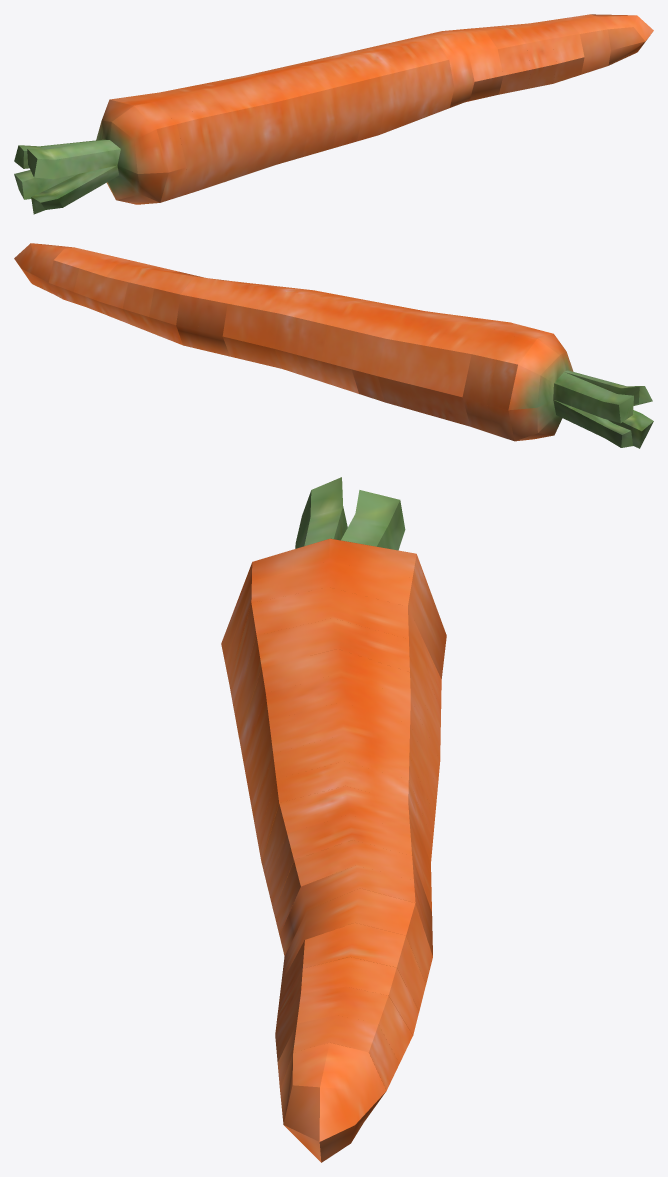
The model's file is CarrotCucumber_carrotsliced.fbx.
3 views of the same model, one above another, from view 1: azimuth 30°, elevation 25°; view 2: azimuth 150°, elevation 25°; view 3: azimuth 270°, elevation 25° (orthographic). The views are drawn at different scales.
Visible parts, largest first — view 1: carrotslice1, carrotslice3, carrotslice7, carrotslice4, carrotslice6, carrotslice2, carrotslice11, carrotslice8, carrotslice5, carrotslice14, carrotslice10, carrotslice15 (+7 smaller); view 2: carrotslice1, carrotslice3, carrotslice4, carrotslice7, carrotslice2, carrotslice6, carrotslice5, carrotslice11, carrotslice8, carrotslice10, carrotslice9, carrotslice12 (+7 smaller); view 3: carrotslice1, carrotslice19, carrotslice3, carrotslice4, carrotslice7, carrotslice2, carrotslice6, carrotslice5, carrotslice11, carrotslice8, carrotslice14, carrotslice15 (+7 smaller).
Boxes of the visible parts, x1=… form: carrotslice1: x1=14, y1=96, x2=186, y2=214; carrotslice3: x1=160, y1=86, x2=234, y2=190; carrotslice7: x1=270, y1=63, x2=337, y2=156; carrotslice4: x1=190, y1=80, x2=261, y2=180; carrotslice6: x1=244, y1=70, x2=307, y2=164; carrotslice2: x1=133, y1=92, x2=207, y2=196; carrotslice11: x1=348, y1=46, x2=409, y2=134; carrotslice8: x1=301, y1=57, x2=361, y2=148; carrotslice5: x1=220, y1=76, x2=282, y2=171; carrotslice14: x1=443, y1=28, x2=503, y2=102; carrotslice10: x1=326, y1=52, x2=383, y2=141; carrotslice15: x1=473, y1=25, x2=531, y2=94; carrotslice1: x1=487, y1=328, x2=653, y2=448; carrotslice3: x1=432, y1=318, x2=509, y2=426; carrotslice4: x1=401, y1=314, x2=478, y2=417; carrotslice7: x1=321, y1=299, x2=396, y2=393; carrotslice2: x1=462, y1=322, x2=532, y2=434; carrotslice6: x1=351, y1=306, x2=423, y2=402; carrotslice5: x1=377, y1=311, x2=447, y2=408; carrotslice11: x1=246, y1=287, x2=312, y2=368; carrotslice8: x1=297, y1=294, x2=362, y2=383; carrotslice10: x1=274, y1=290, x2=336, y2=375; carrotslice9: x1=222, y1=284, x2=282, y2=362; carrotslice12: x1=198, y1=280, x2=255, y2=356; carrotslice1: x1=221, y1=477, x2=446, y2=661; carrotslice19: x1=280, y1=1042, x2=386, y2=1162; carrotslice3: x1=229, y1=587, x2=441, y2=709; carrotslice4: x1=234, y1=618, x2=440, y2=737; carrotslice7: x1=247, y1=701, x2=437, y2=816; carrotslice2: x1=225, y1=561, x2=444, y2=682; carrotslice6: x1=243, y1=673, x2=439, y2=786; carrotslice5: x1=239, y1=649, x2=440, y2=761; carrotslice11: x1=261, y1=785, x2=431, y2=889; carrotslice8: x1=253, y1=734, x2=434, y2=840; carrotslice14: x1=281, y1=888, x2=432, y2=984; carrotslice15: x1=278, y1=923, x2=425, y2=1011.
Size of the model in its own units: 0.3155 by 0.0482 by 0.0494.
